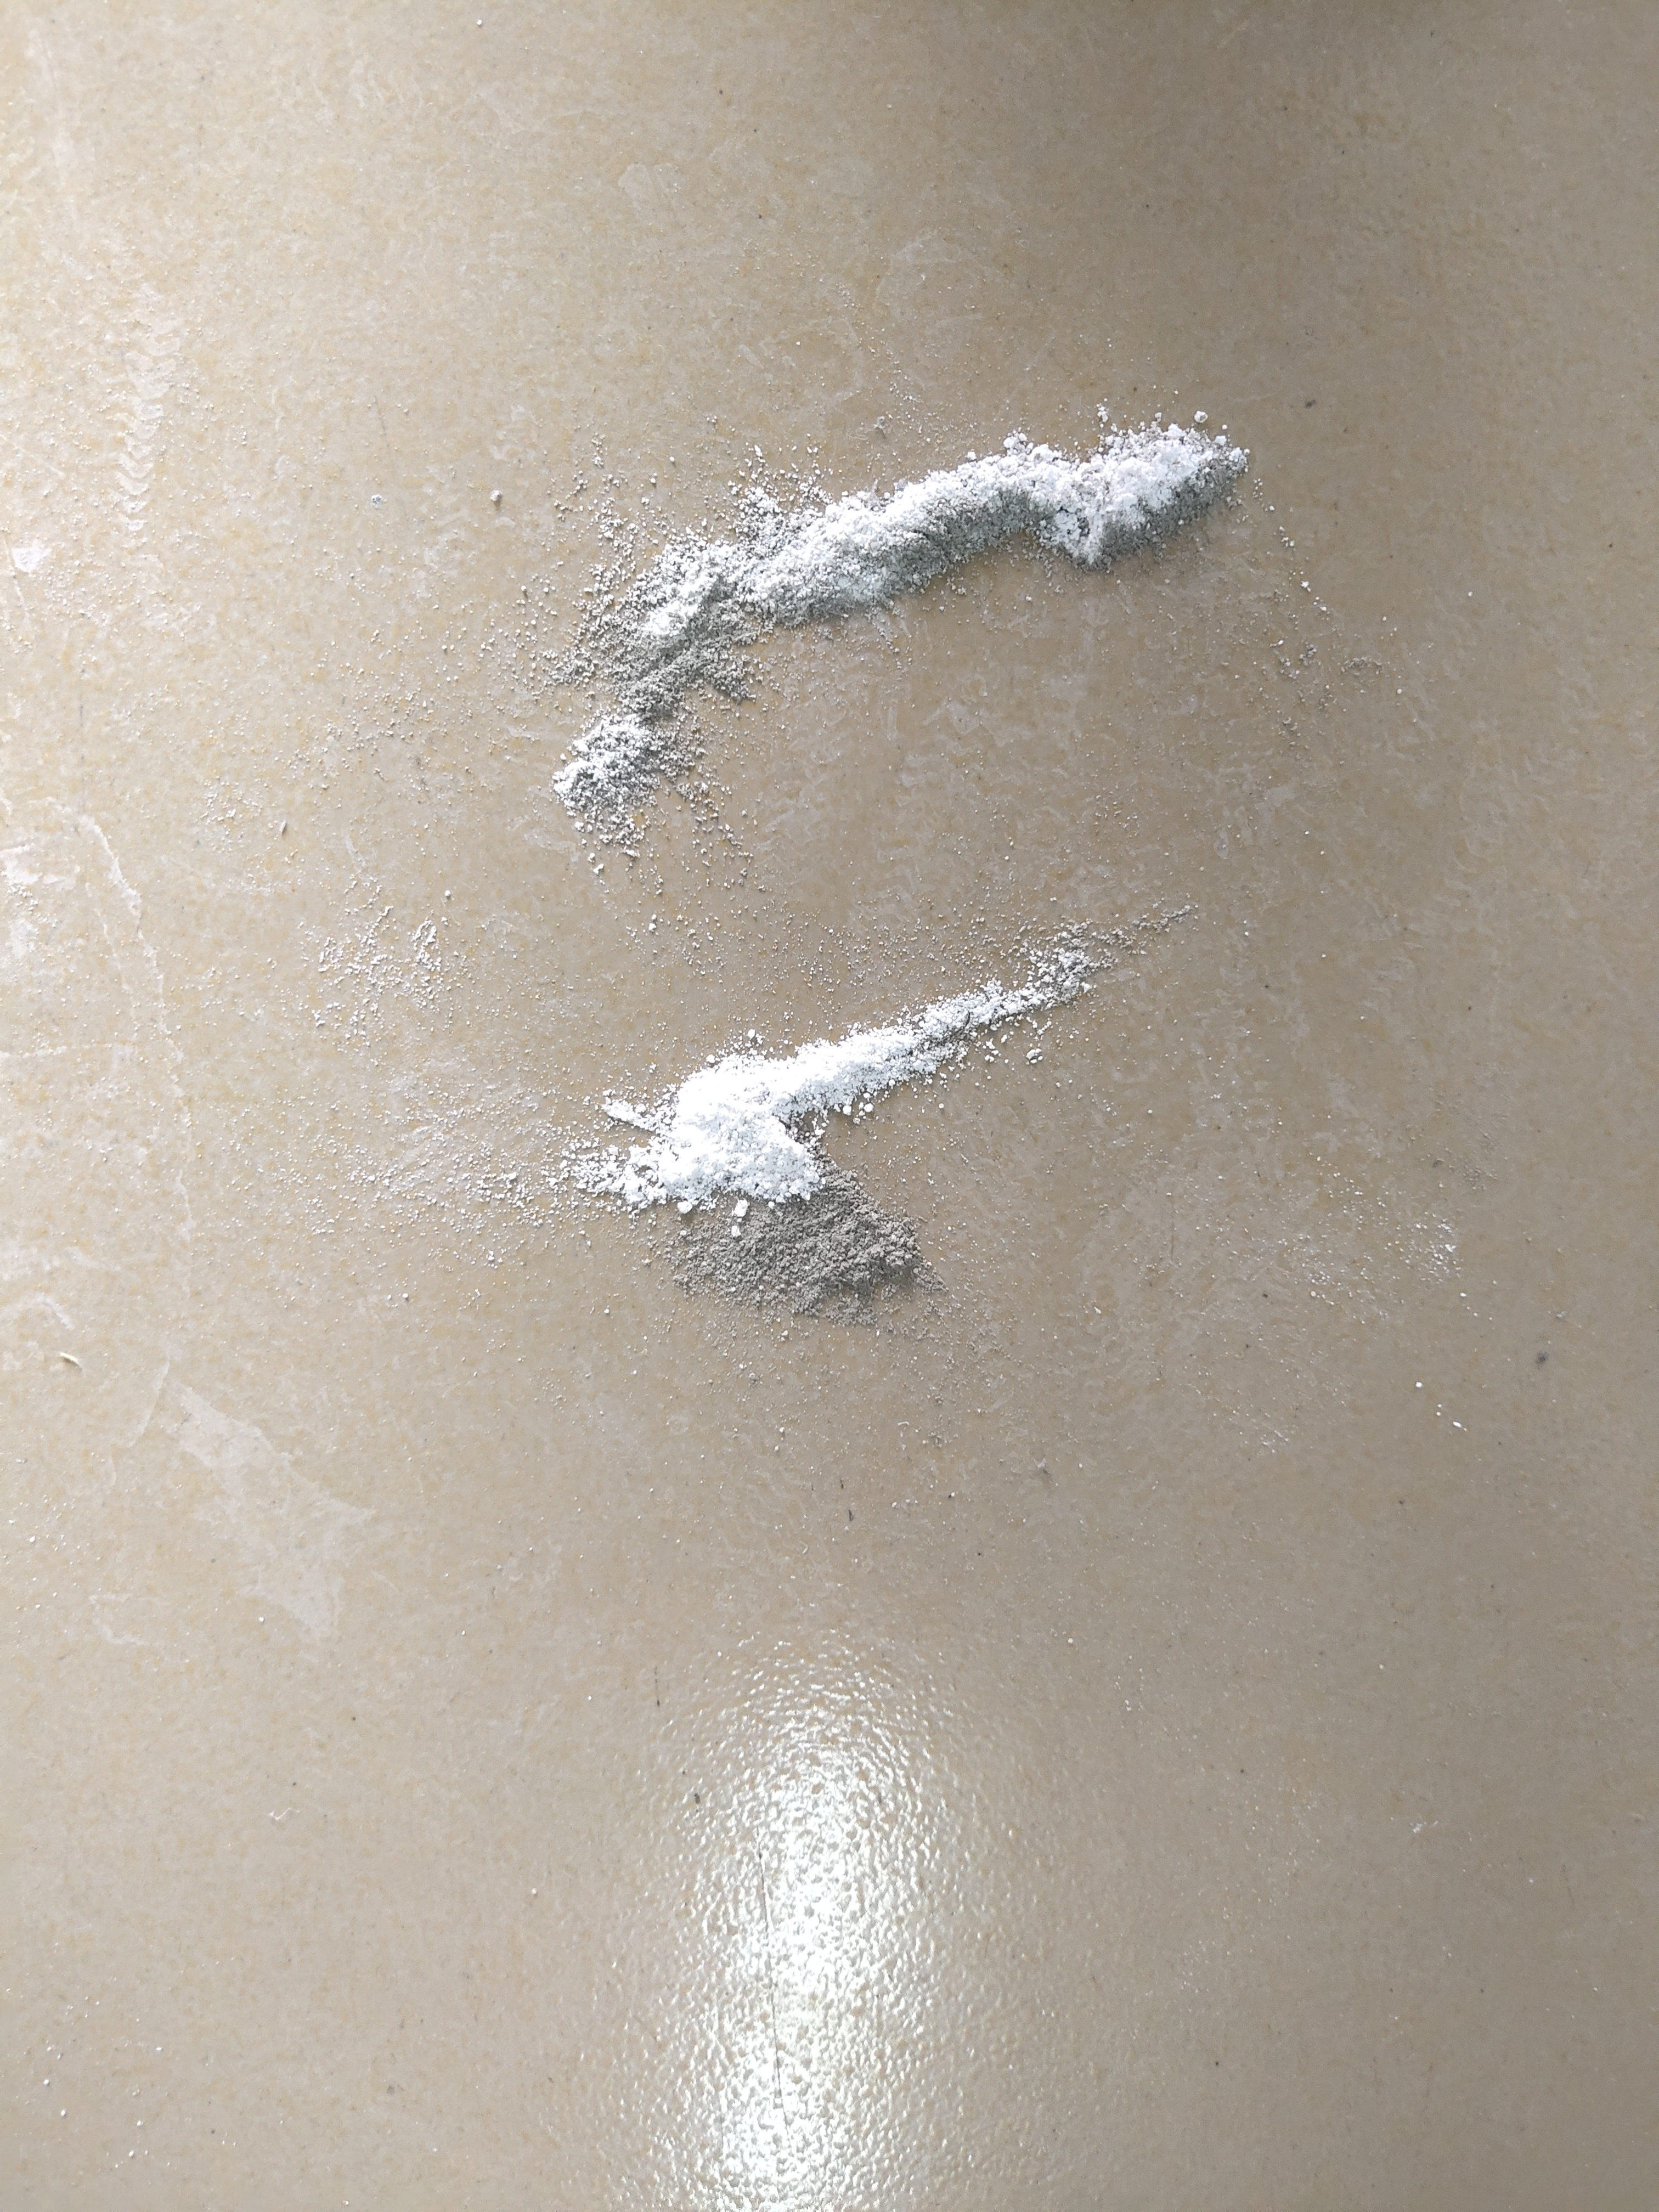ash pile: (547, 402, 1251, 867), (542, 942, 1101, 1320)
reflection: (669, 1669, 955, 2209)
